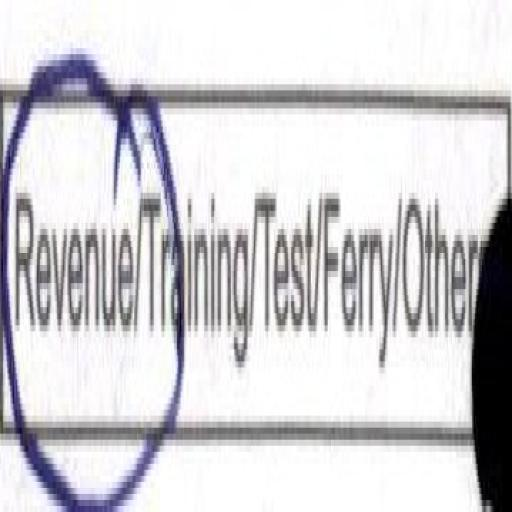check: (0, 11, 144, 510)
